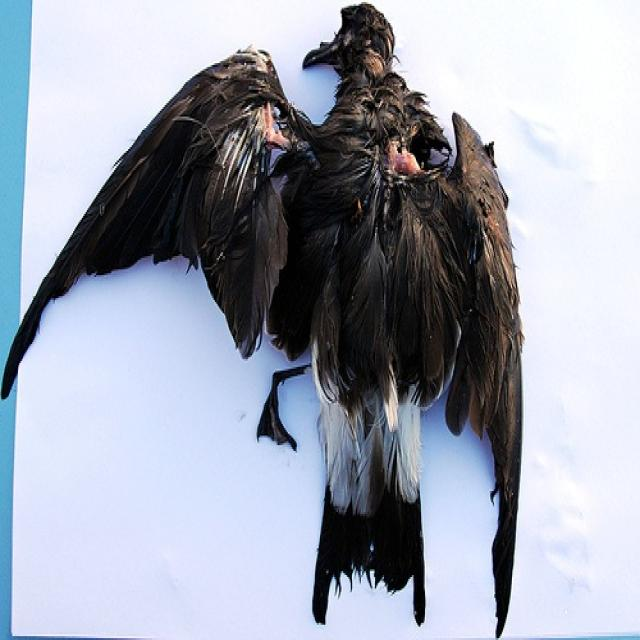bird: (5, 4, 516, 634)
